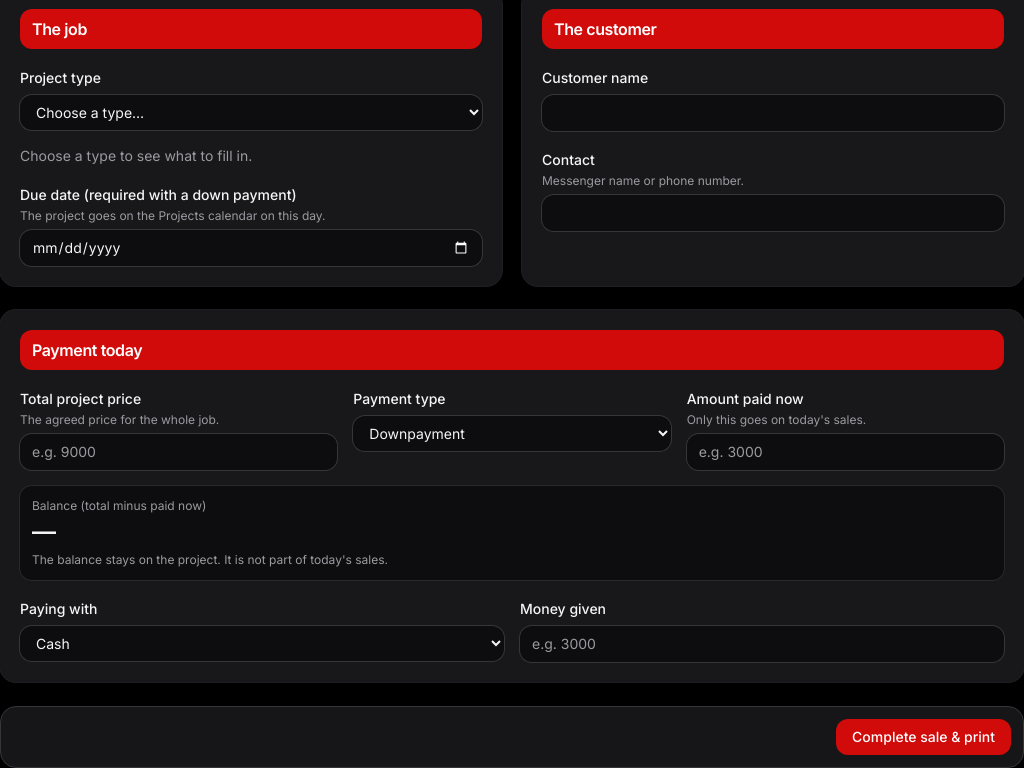
it: the payment › offers the same ways of paying as a regular sale, and asks for cash or a reference
(page scrolled)
Expected: the field labelled "Money given" is shown, 520,626 -> 1004,662
Select "GCash" in the dropdown labelled "Paying with" at (262,644), box 20,626 -> 504,661
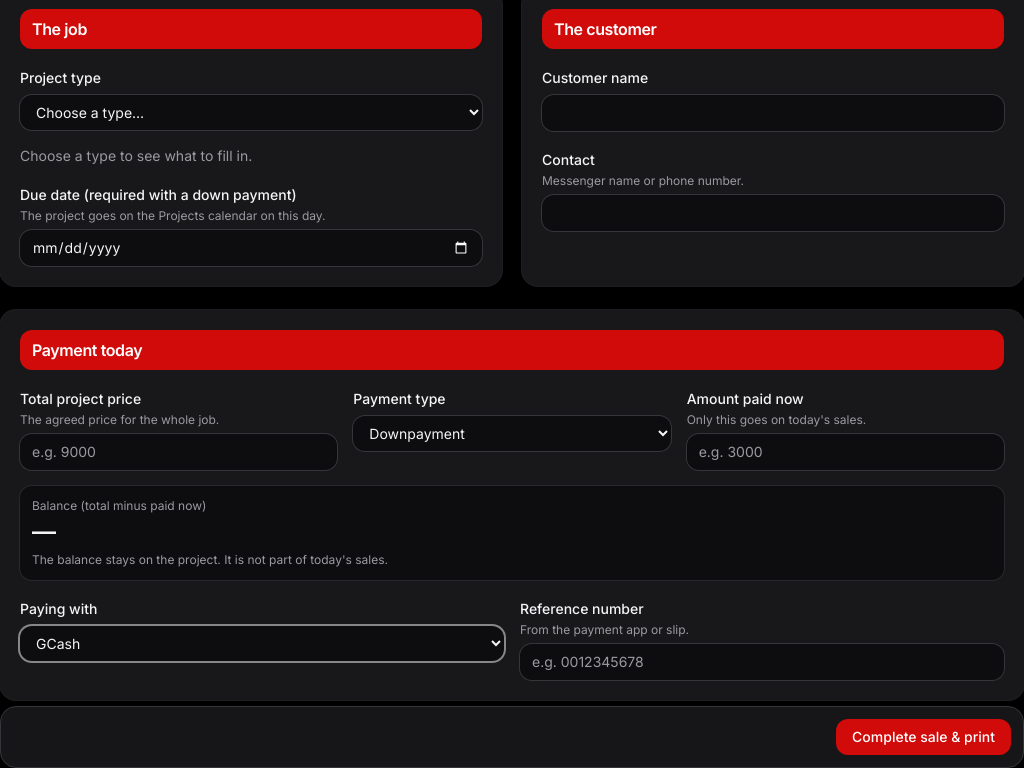
Expected: the field labelled "Reference number From the payment app or slip." is shown, 520,644 -> 1004,680
Result: the text labelled "Money given" is gone
